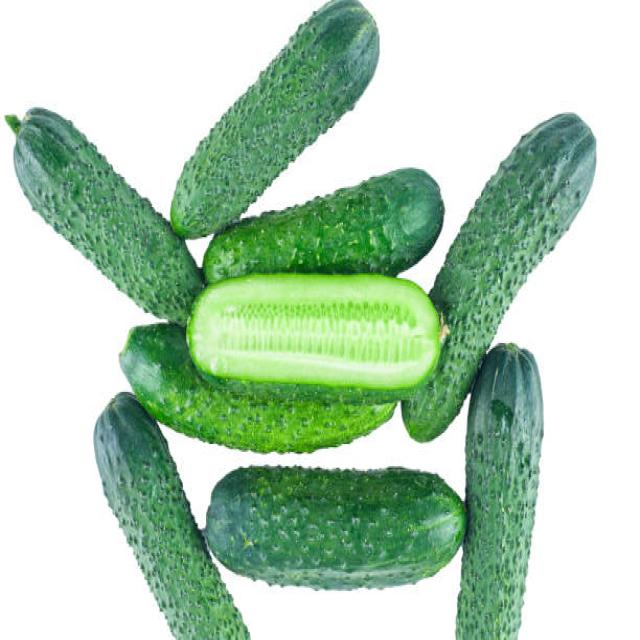cucumber: (401, 111, 598, 443), (169, 0, 381, 237), (12, 107, 202, 323), (94, 388, 250, 640), (119, 323, 398, 453), (205, 461, 469, 593), (188, 270, 441, 401), (203, 167, 443, 281), (455, 344, 544, 640)
